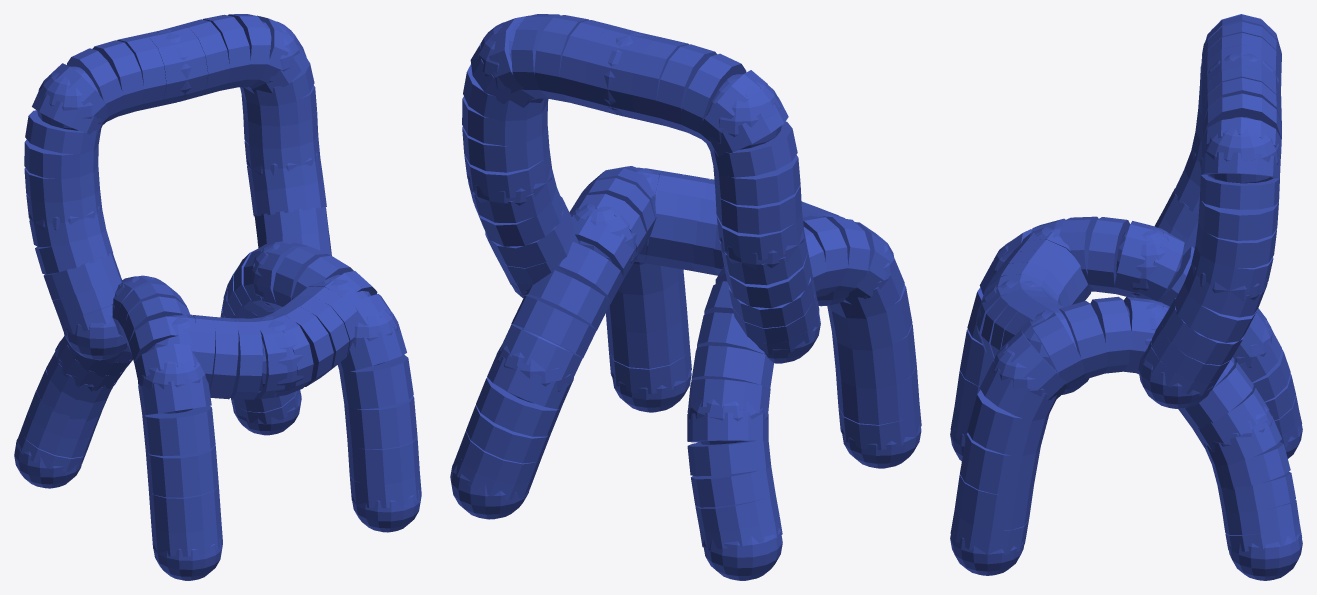
Rendered from bold-chair-blue.glb.
The picture shows the model from 3 angles, left to right: view 1: azimuth 30°, elevation 25°; view 2: azimuth 150°, elevation 25°; view 3: azimuth 270°, elevation 25°; orthographic projection. The views are drawn at different scales.
Visible parts, largest first — view 1: bold-chair-blue; view 2: bold-chair-blue; view 3: bold-chair-blue.
Part boxes in pixels (bbox=[...]): bold-chair-blue: bbox=[14, 14, 421, 580]; bold-chair-blue: bbox=[450, 14, 921, 580]; bold-chair-blue: bbox=[950, 14, 1302, 580].
Bounding box in the file's own units: 0.883 × 1.3 × 0.89.
